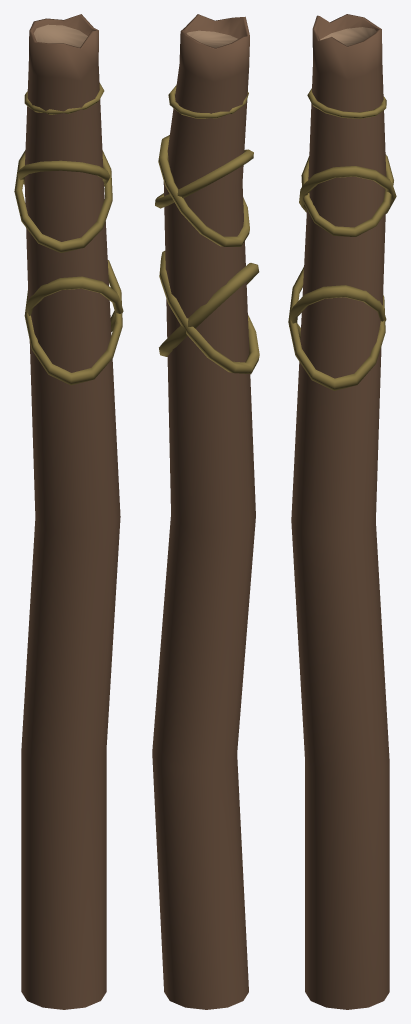
Rendered from waterfrontpost.fbx.
The picture shows the model from 3 angles, left to right: view 1: azimuth 90°, elevation 25°; view 2: azimuth 150°, elevation 25°; view 3: azimuth 270°, elevation 25°; orthographic projection.
Parts seen in each view (by area): view 1: Cube.001; view 2: Cube.001; view 3: Cube.001.
Boxes of the visible parts, box(x1,y1,x2,y2) form: Cube.001: box(14, 14, 123, 1009); Cube.001: box(152, 14, 259, 1009); Cube.001: box(288, 14, 396, 1009).
Bounding box in the file's own units: 0.2563 × 2.6 × 0.2647.
